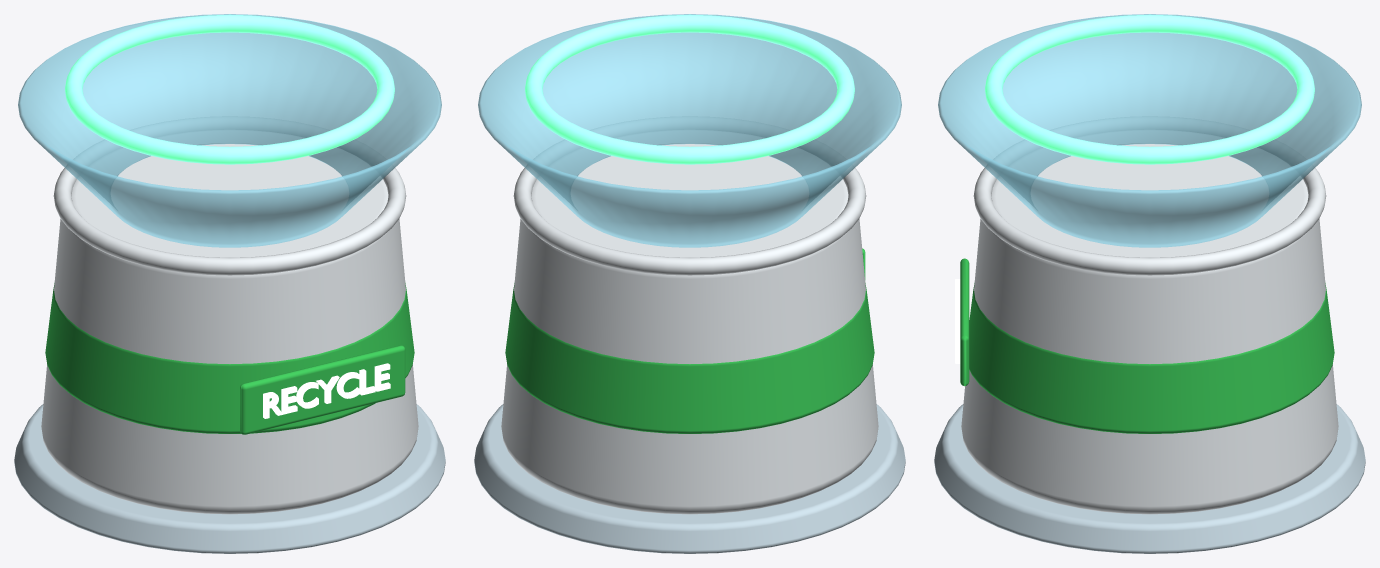
The model's file is recycler.glb.
3 views of the same model, side by side, from view 1: azimuth 30°, elevation 25°; view 2: azimuth 150°, elevation 25°; view 3: azimuth 270°, elevation 25° (orthographic).
Parts seen in each view (by area): view 1: Recycler, Funnel, Ring; view 2: Recycler, Funnel, Ring; view 3: Recycler, Funnel, Ring.
Boxes of the visible parts, x1=… form: Recycler: x1=14, y1=117, x2=445, y2=553; Funnel: x1=18, y1=14, x2=441, y2=247; Ring: x1=65, y1=14, x2=394, y2=164; Recycler: x1=474, y1=117, x2=905, y2=553; Funnel: x1=478, y1=14, x2=901, y2=247; Ring: x1=525, y1=14, x2=854, y2=164; Recycler: x1=934, y1=117, x2=1365, y2=553; Funnel: x1=938, y1=14, x2=1361, y2=247; Ring: x1=985, y1=14, x2=1314, y2=164.
Bounding box in the file's own units: 3.87 × 3.78 × 3.87.
